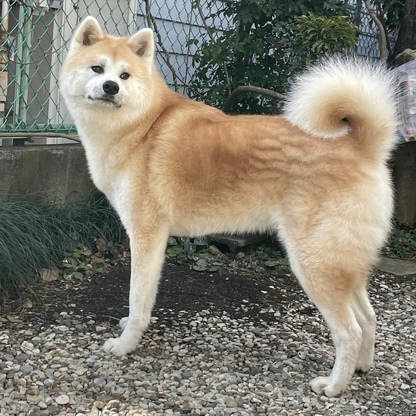akita: (45, 7, 408, 401)
